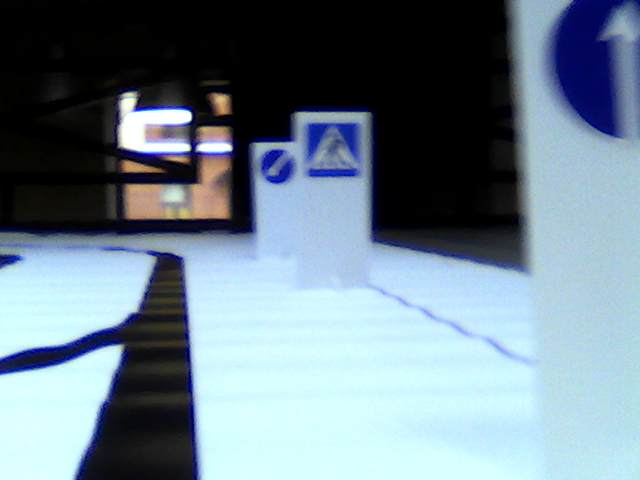forw: (541, 1, 640, 143)
pesh: (305, 121, 365, 181)
prep: (258, 148, 297, 183)
